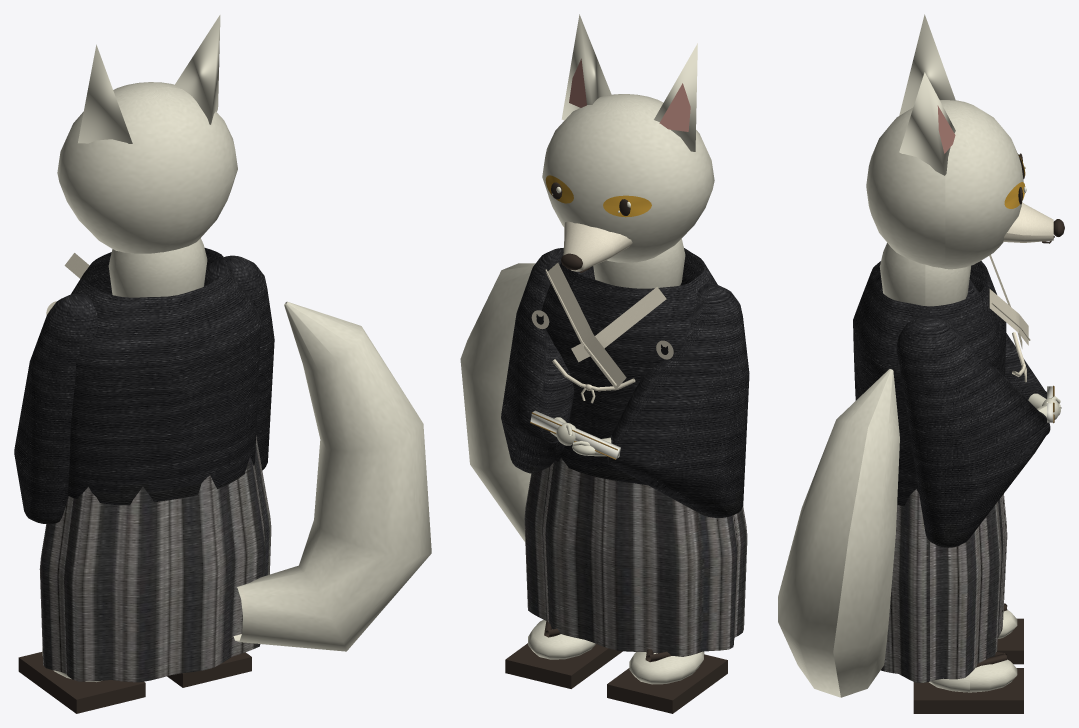
Rendered from nyanisyarud-yokai-fox-groom.glb.
The picture shows the model from 3 angles, left to right: view 1: azimuth 30°, elevation 25°; view 2: azimuth 150°, elevation 25°; view 3: azimuth 270°, elevation 25°; orthographic projection. The views are drawn at different scales.
Parts seen in each view (by area): view 1: Gentle_White_Fox_Groom_Matching_Bride; view 2: Gentle_White_Fox_Groom_Matching_Bride; view 3: Gentle_White_Fox_Groom_Matching_Bride.
Part boxes in pixels (<box>): Gentle_White_Fox_Groom_Matching_Bride: <box>14,15,431,713</box>; Gentle_White_Fox_Groom_Matching_Bride: <box>460,14,749,713</box>; Gentle_White_Fox_Groom_Matching_Bride: <box>778,14,1064,713</box>.
Bounding box in the file's own units: 0.9895 × 1.84 × 0.759.
1 material, 1 textured.
